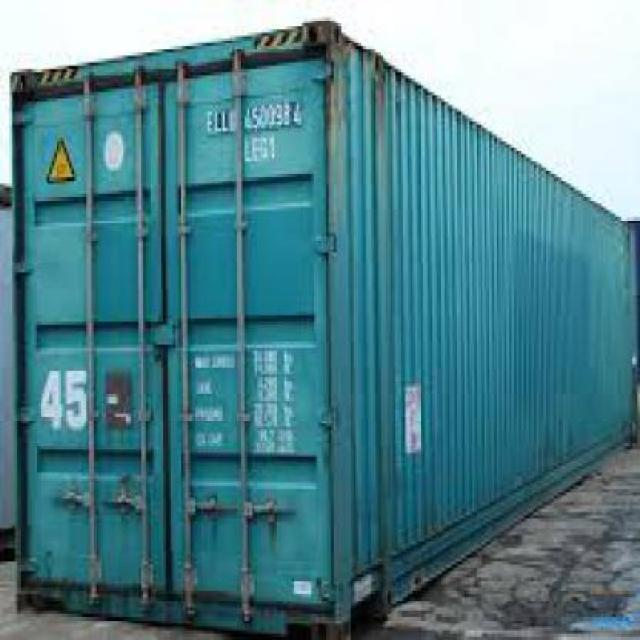ISO: (242, 134, 280, 162)
container_number: (204, 103, 302, 130)
